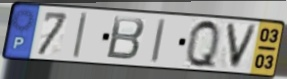7: (36, 11, 70, 57)
B: (104, 15, 147, 63)
I: (71, 11, 90, 60), (149, 17, 168, 65)
Q: (185, 18, 222, 72)
V: (224, 21, 260, 71)
